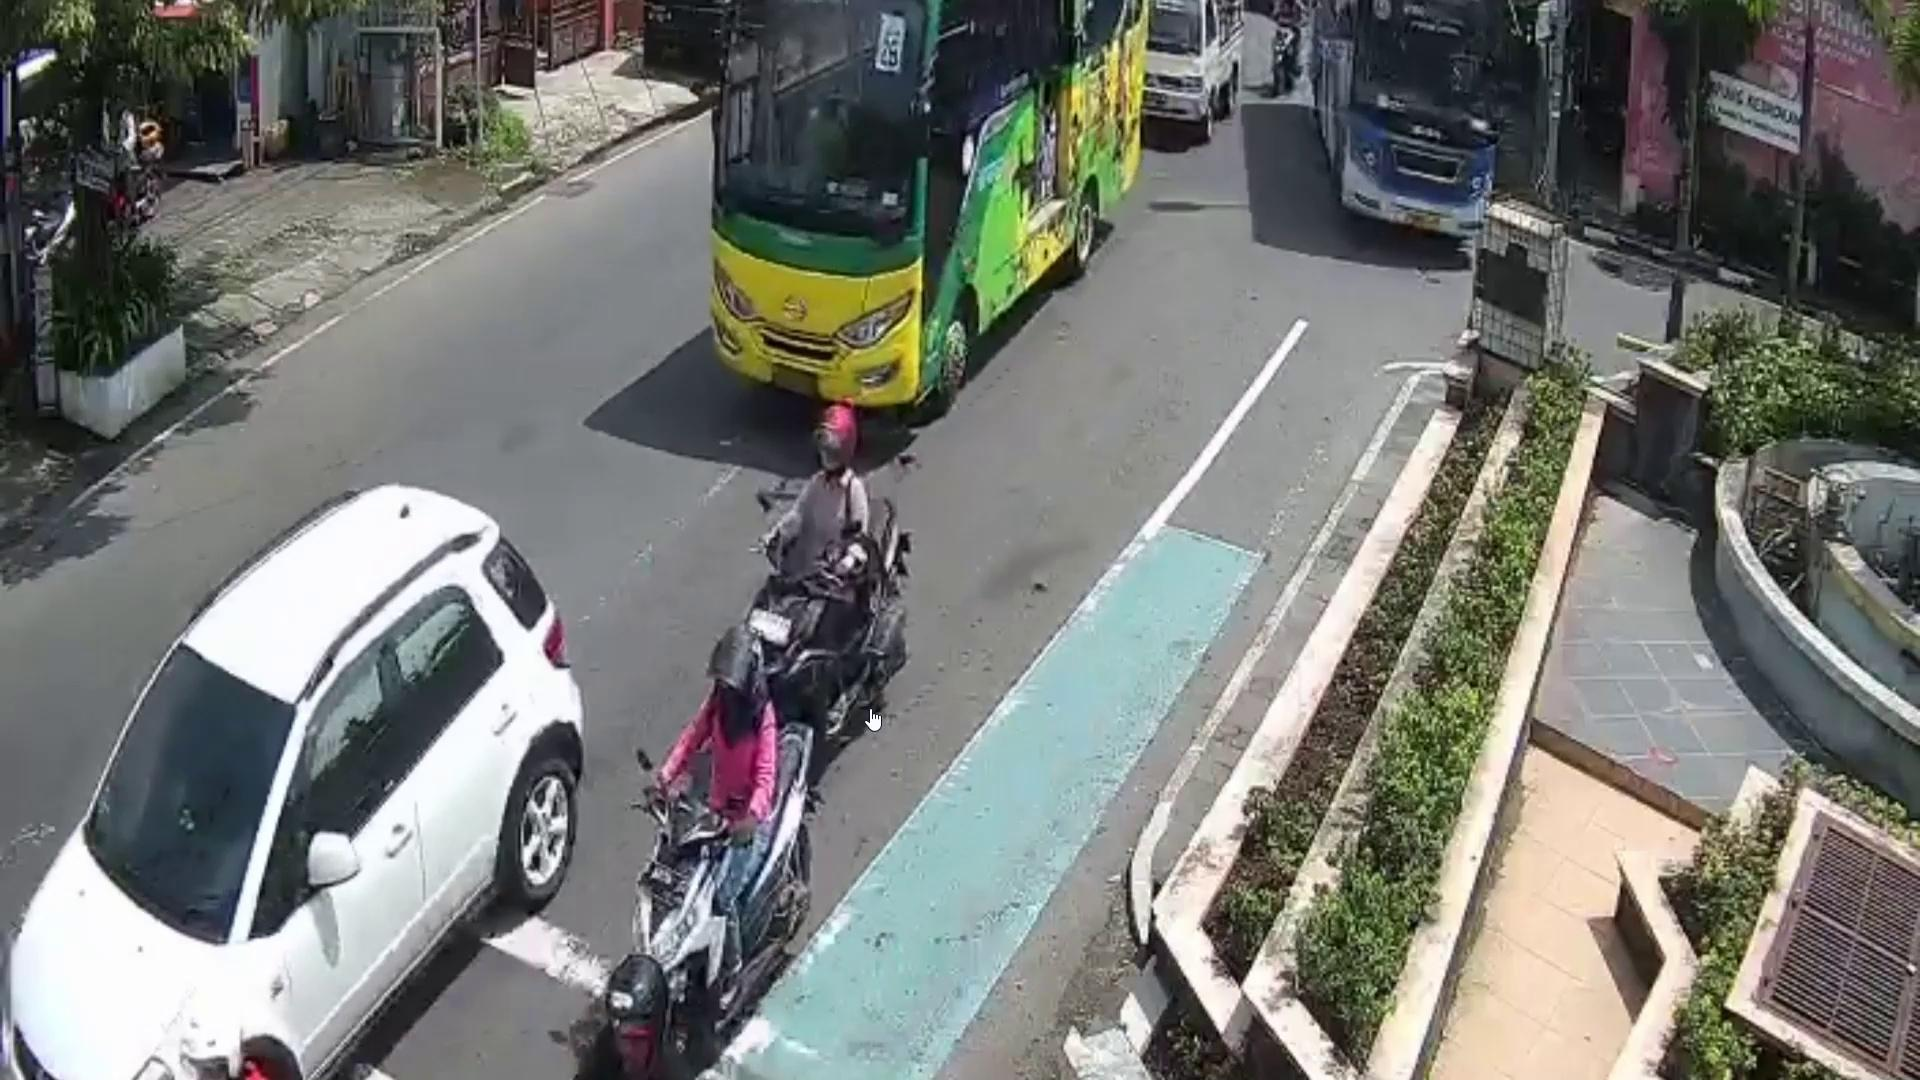bus: (695, 0, 1155, 417), (1304, 0, 1514, 245)
car: (0, 480, 584, 1080), (1116, 0, 1254, 135)
motorbike: (634, 724, 819, 1080), (746, 491, 913, 791)
